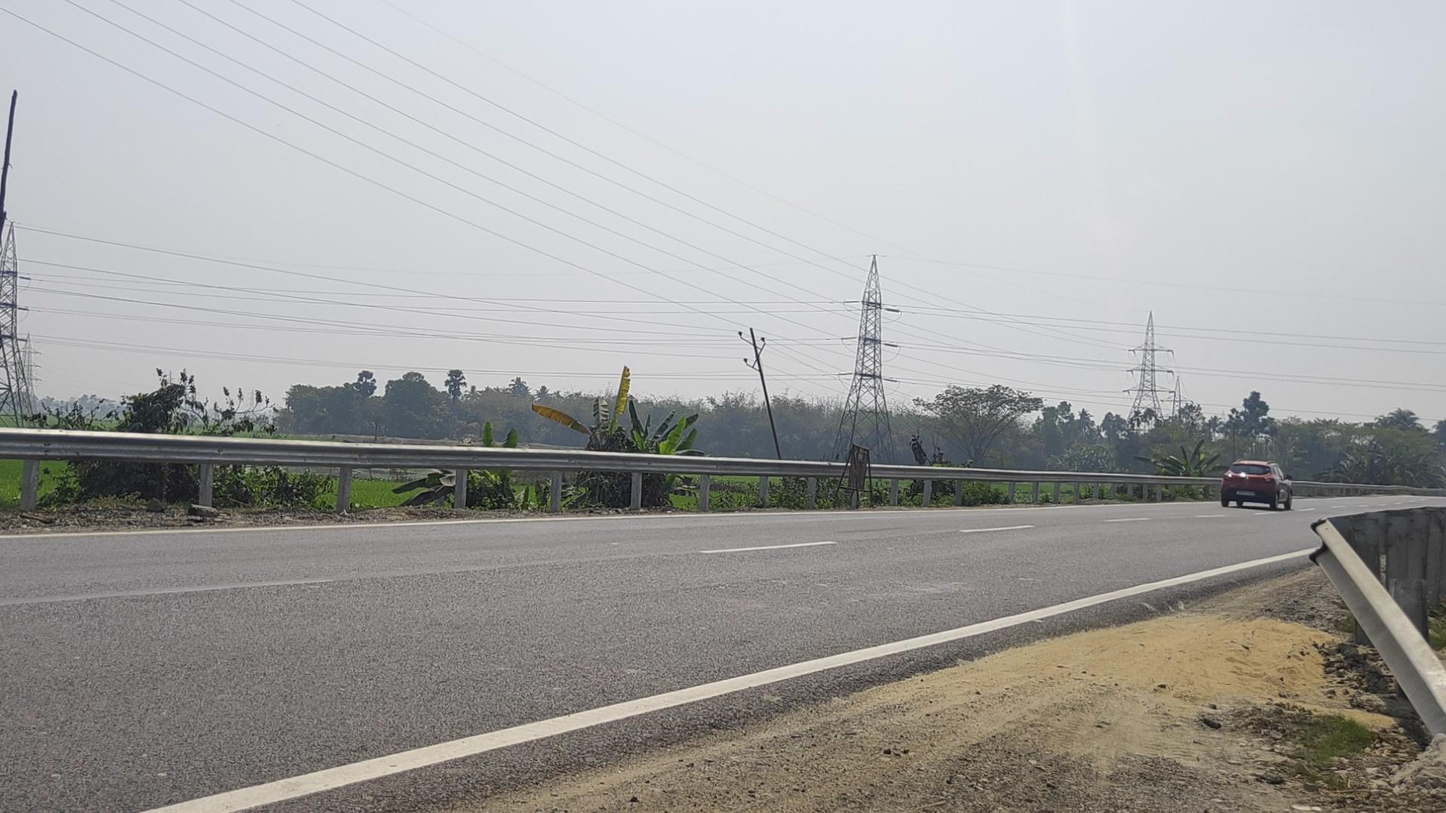car: (1221, 458, 1292, 511)
